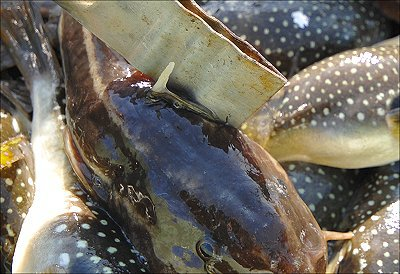gonzui: (55, 11, 352, 274)
